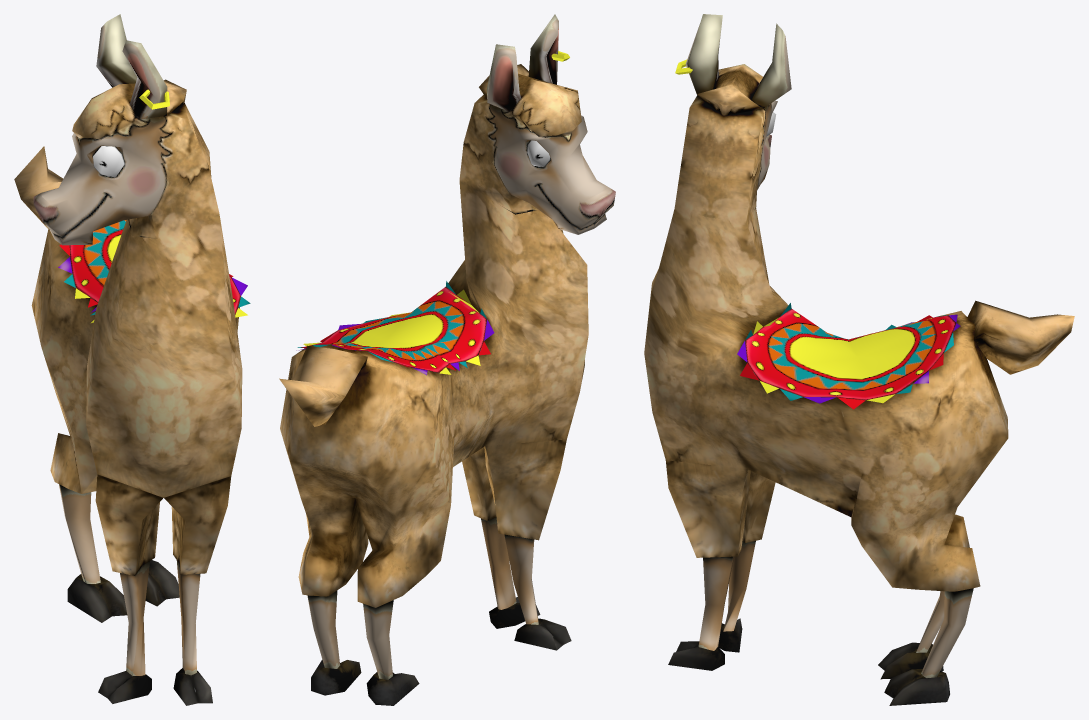
Rendered from llama.glb.
The picture shows the model from 3 angles, left to right: view 1: azimuth 30°, elevation 25°; view 2: azimuth 150°, elevation 25°; view 3: azimuth 270°, elevation 25°; orthographic projection. The views are drawn at different scales.
Visible parts, largest first — view 1: llamacomplx; view 2: llamacomplx; view 3: llamacomplx.
Part boxes in pixels (x1,y1,x2,y2): llamacomplx: (14,14,250,705); llamacomplx: (279,14,615,705); llamacomplx: (644,14,1074,705).
Size of the model in its own units: 1.01 by 2.49 by 1.55.
1 material, 1 textured.
